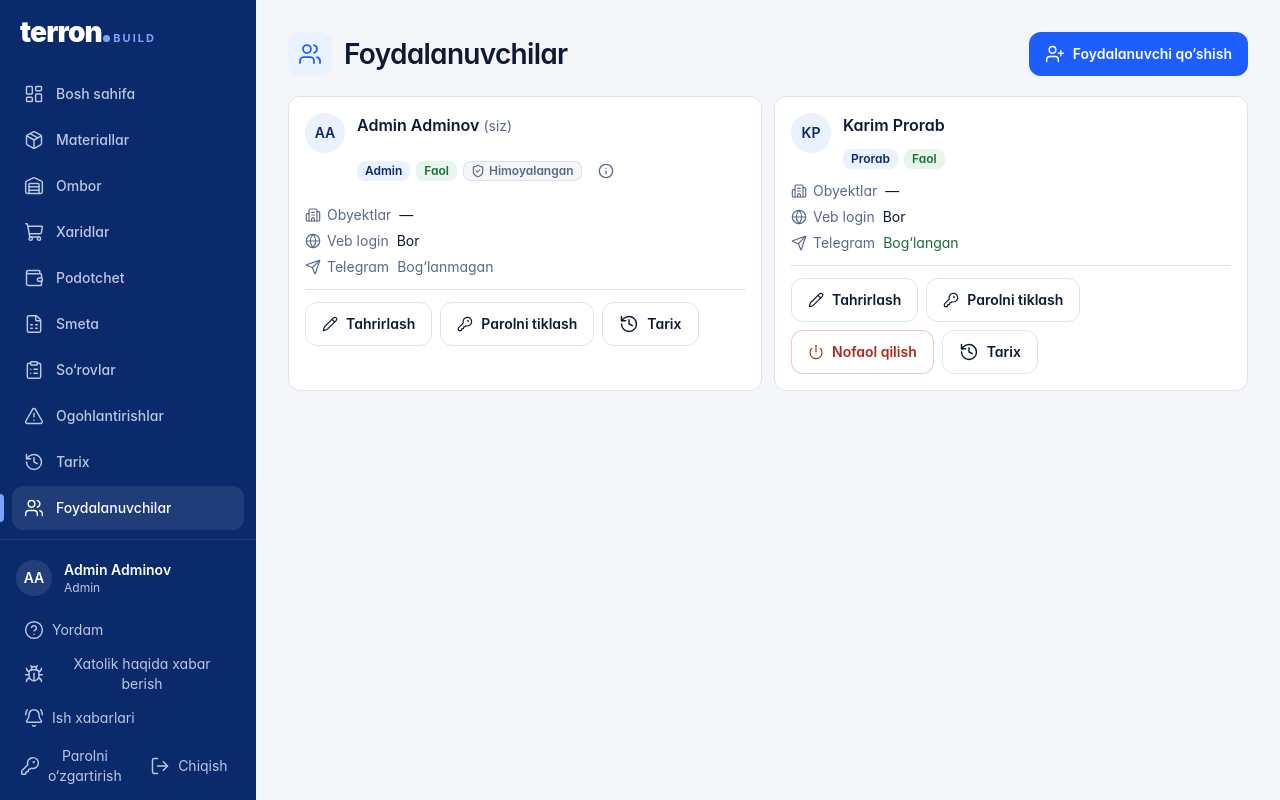
it: /users — foydalanuvchi qo‘shish formasi › super_admin roli tanlovda yo‘q
Expected: the text "Karim Prorab" is shown, [843,115,945,135]
What coordinates should you click on to do the following:
click the button "Foydalanuvchi qo‘shish"
I would click on:
 (1138, 54)
Its box is [1029,32,1248,76].
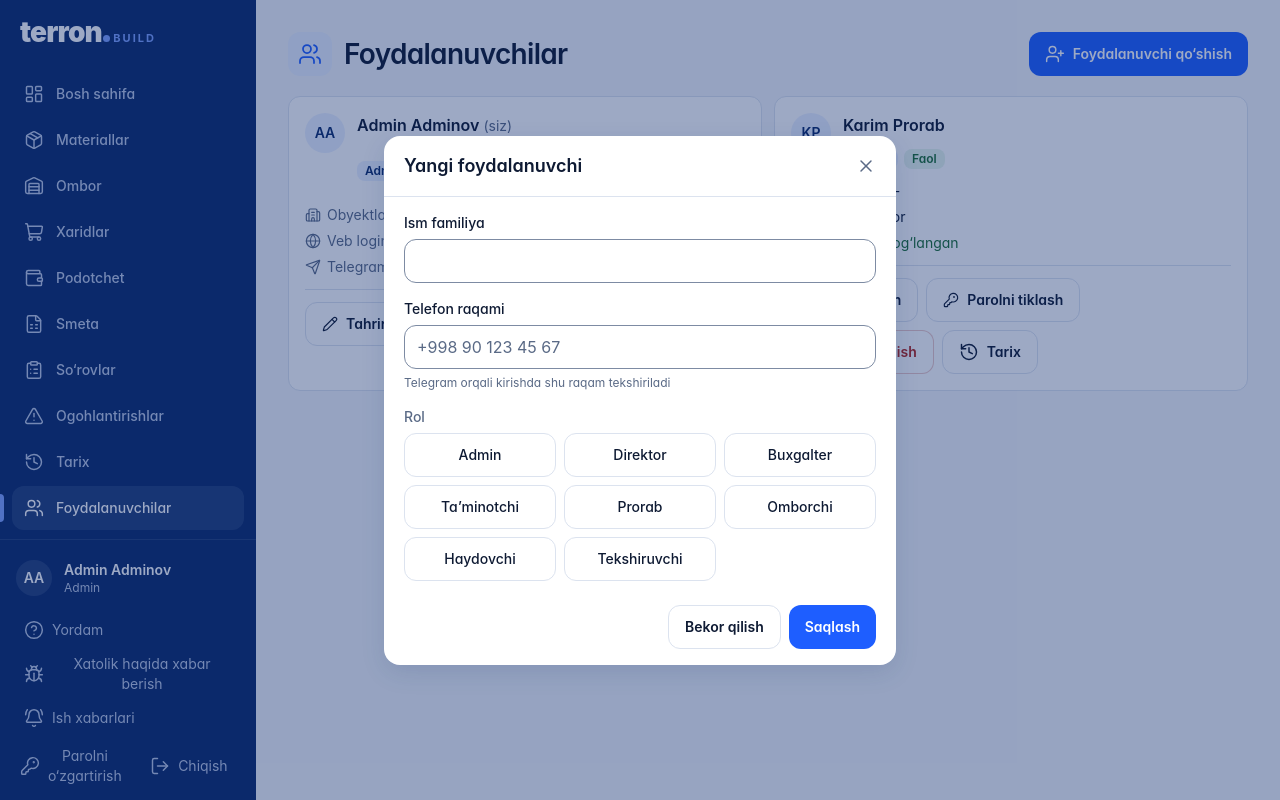
Expected: the radio button labelled "Admin" is shown, [404,432,556,476]
